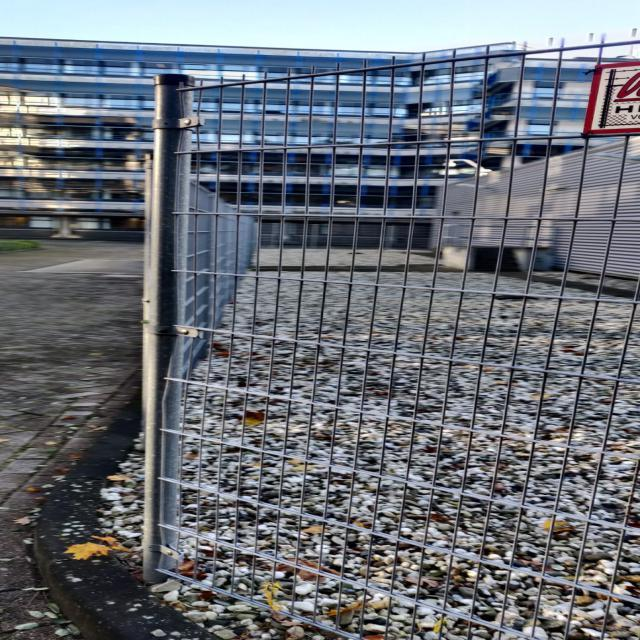fence line: (140, 64, 639, 640)
